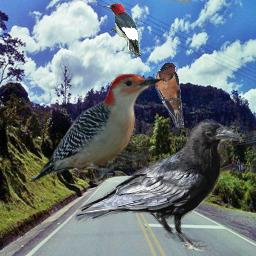Crow: (72, 119, 241, 252)
Swallow: (155, 62, 184, 128)
Woodpecker: (31, 74, 165, 182), (102, 3, 142, 56)
